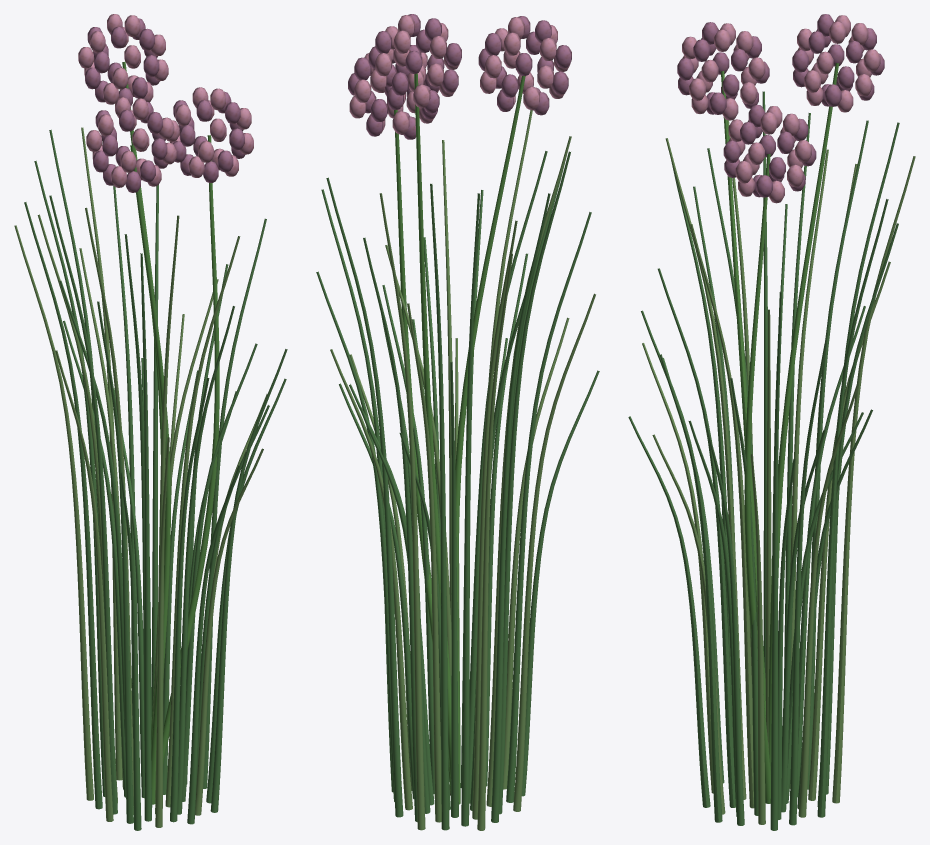
File: herbs-chives.glb
3 renders of one model, left to right at view 1: azimuth 30°, elevation 25°; view 2: azimuth 150°, elevation 25°; view 3: azimuth 270°, elevation 25°, orthographic. The views are drawn at different scales.
Parts seen in each view (by area): view 1: Herbs · Chives; view 2: Herbs · Chives; view 3: Herbs · Chives.
Part boxes in pixels (<box>): Herbs · Chives: <box>14,14,287,830</box>; Herbs · Chives: <box>316,14,599,830</box>; Herbs · Chives: <box>628,14,915,830</box>.
Size of the model in its own units: 0.1427 by 0.442 by 0.1463.
Materials: 4 (1 with a texture image).
